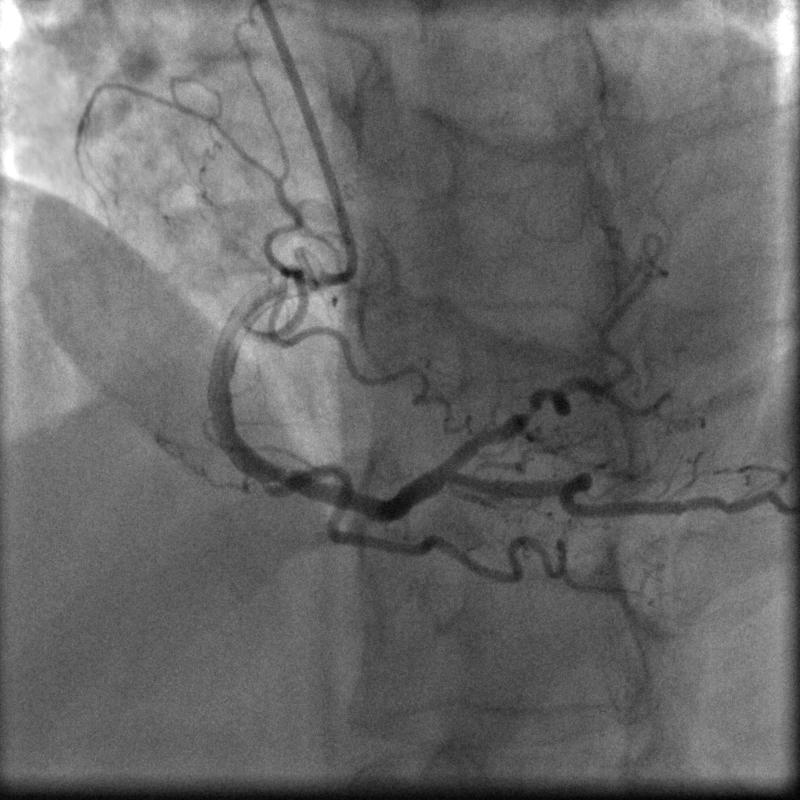Stenosis: (517, 396, 539, 426)
